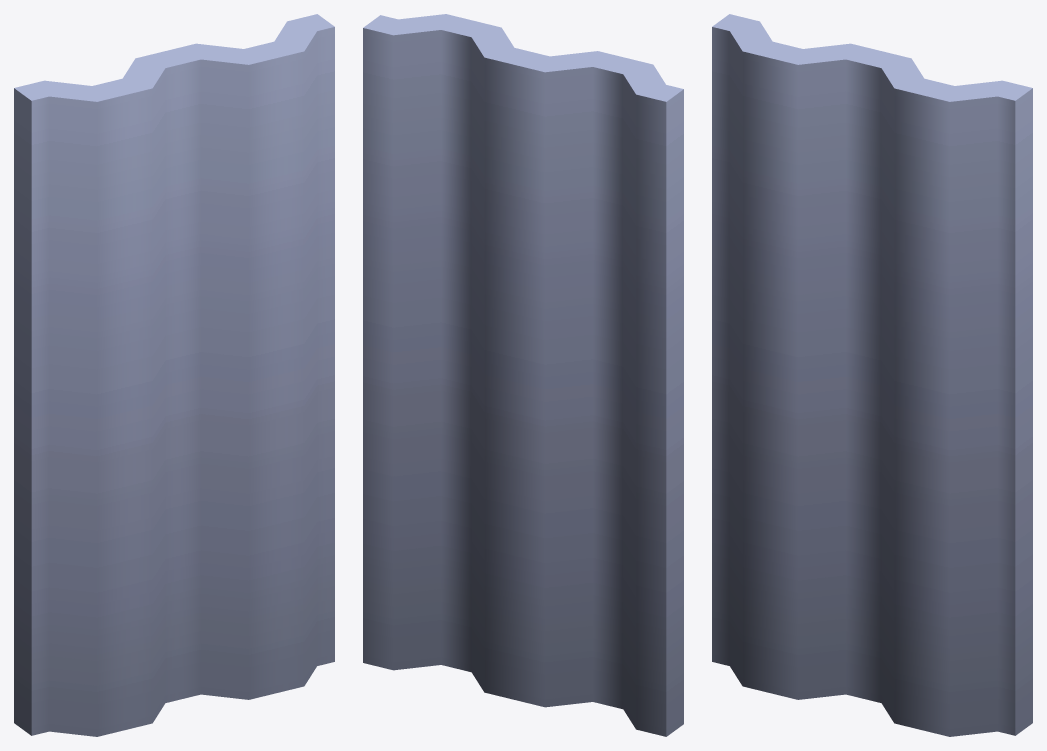
The model's file is metal-panel-narrow.glb.
3 views of the same model, side by side, from view 1: azimuth 30°, elevation 25°; view 2: azimuth 150°, elevation 25°; view 3: azimuth 330°, elevation 25° (orthographic).
Parts seen in each view (by area): view 1: metal-panel-narrow; view 2: metal-panel-narrow; view 3: metal-panel-narrow.
Boxes of the visible parts, x1,y1,x2,y2 form: metal-panel-narrow: (14, 14, 334, 736); metal-panel-narrow: (363, 14, 683, 736); metal-panel-narrow: (712, 14, 1032, 736).
Bounding box in the file's own units: 0.25 × 0.5 × 0.05.
Materials: 1 (1 with a texture image).
